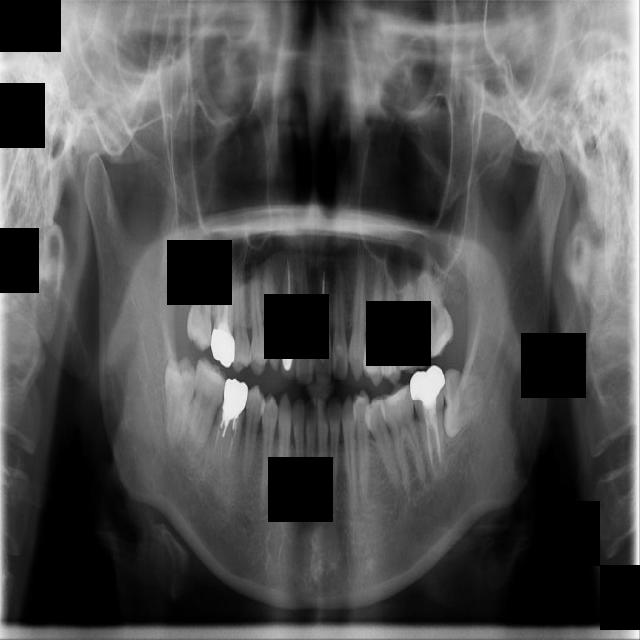52: (373, 380, 425, 432), (405, 364, 451, 417), (361, 396, 389, 443), (220, 375, 251, 411), (313, 334, 333, 385), (381, 342, 402, 388), (211, 329, 235, 368), (280, 336, 297, 379)
73: (417, 407, 455, 482), (209, 398, 248, 468), (212, 255, 238, 340), (312, 262, 331, 345), (283, 255, 295, 343), (567, 548, 579, 548)
BioHorizons Implant: (418, 248, 456, 360)
Biomet 3i Implant: (443, 369, 484, 439)
Blue Sky Bio Implant: (410, 365, 446, 480)
Caries: (185, 247, 213, 352)
Implant: (186, 356, 229, 455)
Keystone Dental Implant: (163, 356, 198, 445)
